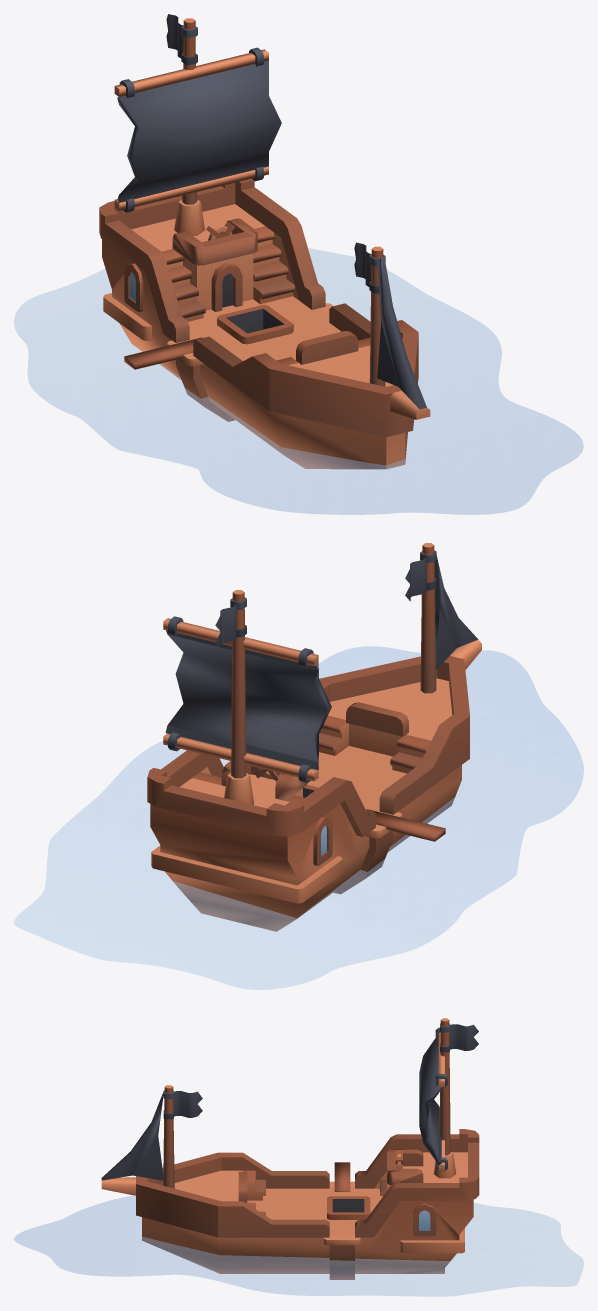
File: deck.glb
The picture shows the model from 3 angles, top to bottom: view 1: azimuth 30°, elevation 25°; view 2: azimuth 150°, elevation 25°; view 3: azimuth 270°, elevation 25°; orthographic projection. The views are drawn at different scales.
Parts seen in each view (by area): view 1: water, ship-pirate-large-col, ship-pirate-large.006-col, ship-pirate-large.017-col, ship-pirate-large.024-col, ship-pirate-large.023-col, ship-pirate-large.020-col, ship-pirate-large.016-col, ship-pirate-large.013, ship-pirate-large.019-col, ship-pirate-large.022-col; view 2: water, ship-pirate-large-col, ship-pirate-large.006-col, ship-pirate-large.017-col, ship-pirate-large.018-col, ship-pirate-large.016-col, ship-pirate-large.023-col, ship-pirate-large.013, ship-pirate-large.024-col, ship-pirate-large.022-col, ship-pirate-large.019-col, ship-pirate-large.007-col (+1 smaller); view 3: ship-pirate-large-col, water, ship-pirate-large.017-col, ship-pirate-large.006-col, ship-pirate-large.024-col, ship-pirate-large.018-col, ship-pirate-large.016-col, ship-pirate-large.021-col, ship-pirate-large.010-col, ship-pirate-large.007-col, ship-pirate-large.013, ship-pirate-large.015-col.
Boxes of the visible parts, x1,y1,x2,y2 form: water: [14, 248, 583, 514]; ship-pirate-large-col: [99, 178, 418, 469]; ship-pirate-large.006-col: [114, 49, 281, 210]; ship-pirate-large.017-col: [377, 257, 430, 419]; ship-pirate-large.024-col: [172, 218, 257, 265]; ship-pirate-large.023-col: [296, 330, 358, 364]; ship-pirate-large.020-col: [211, 263, 242, 312]; ship-pirate-large.016-col: [369, 246, 385, 386]; ship-pirate-large.013: [124, 337, 202, 369]; ship-pirate-large.019-col: [174, 199, 204, 235]; ship-pirate-large.022-col: [124, 263, 143, 311]; water: [14, 646, 583, 989]; ship-pirate-large-col: [147, 656, 469, 931]; ship-pirate-large.006-col: [163, 618, 331, 781]; ship-pirate-large.017-col: [434, 556, 481, 669]; ship-pirate-large.018-col: [231, 590, 246, 778]; ship-pirate-large.016-col: [420, 543, 436, 693]; ship-pirate-large.023-col: [346, 702, 408, 736]; ship-pirate-large.013: [366, 809, 445, 841]; ship-pirate-large.024-col: [221, 761, 306, 800]; ship-pirate-large.022-col: [313, 817, 332, 865]; ship-pirate-large.019-col: [224, 773, 254, 804]; ship-pirate-large.007-col: [405, 557, 426, 601]; ship-pirate-large-col: [136, 1129, 479, 1279]; water: [14, 1195, 583, 1296]; ship-pirate-large.017-col: [101, 1091, 163, 1195]; ship-pirate-large.006-col: [419, 1032, 444, 1170]; ship-pirate-large.024-col: [387, 1149, 423, 1185]; ship-pirate-large.018-col: [439, 1018, 450, 1155]; ship-pirate-large.016-col: [163, 1085, 174, 1188]; ship-pirate-large.021-col: [413, 1203, 436, 1236]; ship-pirate-large.010-col: [449, 1024, 478, 1050]; ship-pirate-large.007-col: [173, 1091, 202, 1117]; ship-pirate-large.013: [334, 1162, 350, 1191]; ship-pirate-large.015-col: [324, 1235, 360, 1245].
Size of what is drawn, in the model's own units: 10.85 by 9.4 by 19.76.
Materials: 2 (2 with a texture image).
